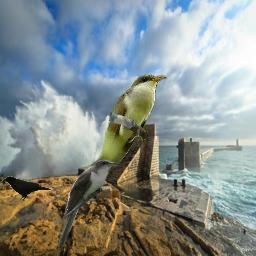Crow: (0, 175, 51, 200)
Cuckoo: (94, 74, 167, 180), (55, 158, 118, 253)
